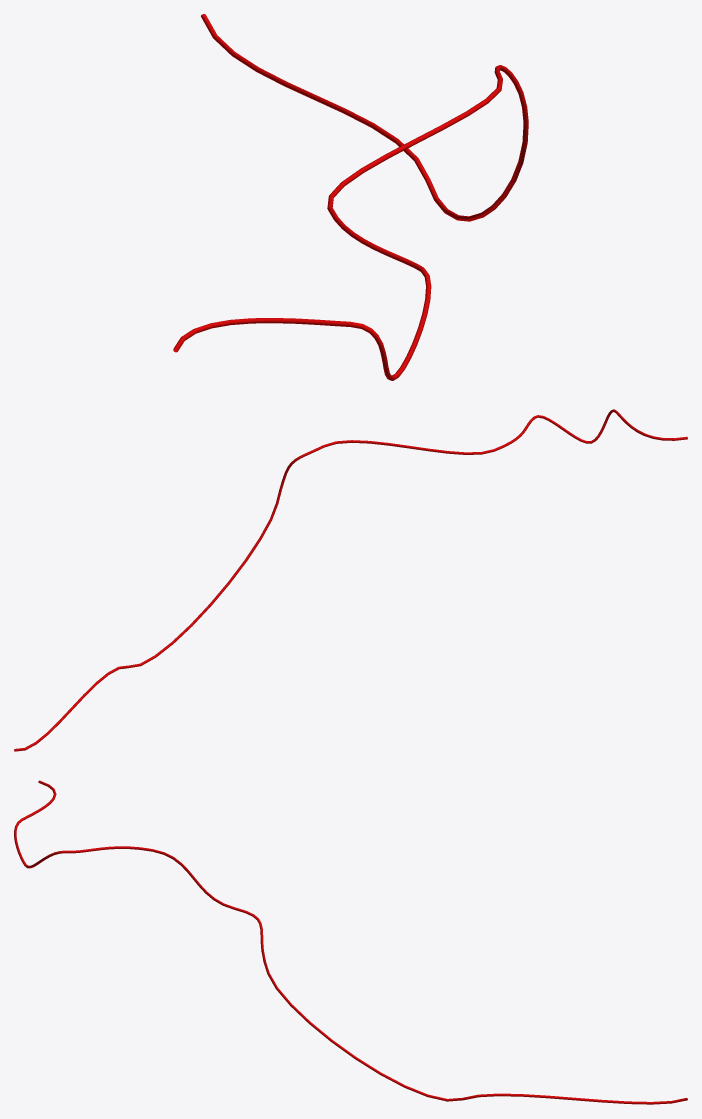
The model's file is Attic_Cable_01_LP_Splines_12.glb.
3 renders of one model, top to bottom at view 1: azimuth 30°, elevation 25°; view 2: azimuth 150°, elevation 25°; view 3: azimuth 270°, elevation 25°, orthographic. The views are drawn at different scales.
Visible parts, largest first — view 1: Attic_Cable_01_LP_Splines_12; view 2: Attic_Cable_01_LP_Splines_12; view 3: Attic_Cable_01_LP_Splines_12.
Boxes of the visible parts, x1,y1,x2,y2 form: Attic_Cable_01_LP_Splines_12: (173,14,528,380); Attic_Cable_01_LP_Splines_12: (14,409,687,751); Attic_Cable_01_LP_Splines_12: (14,780,687,1104).
Bounding box in the file's own units: 1.06 × 0.4771 × 1.8.
